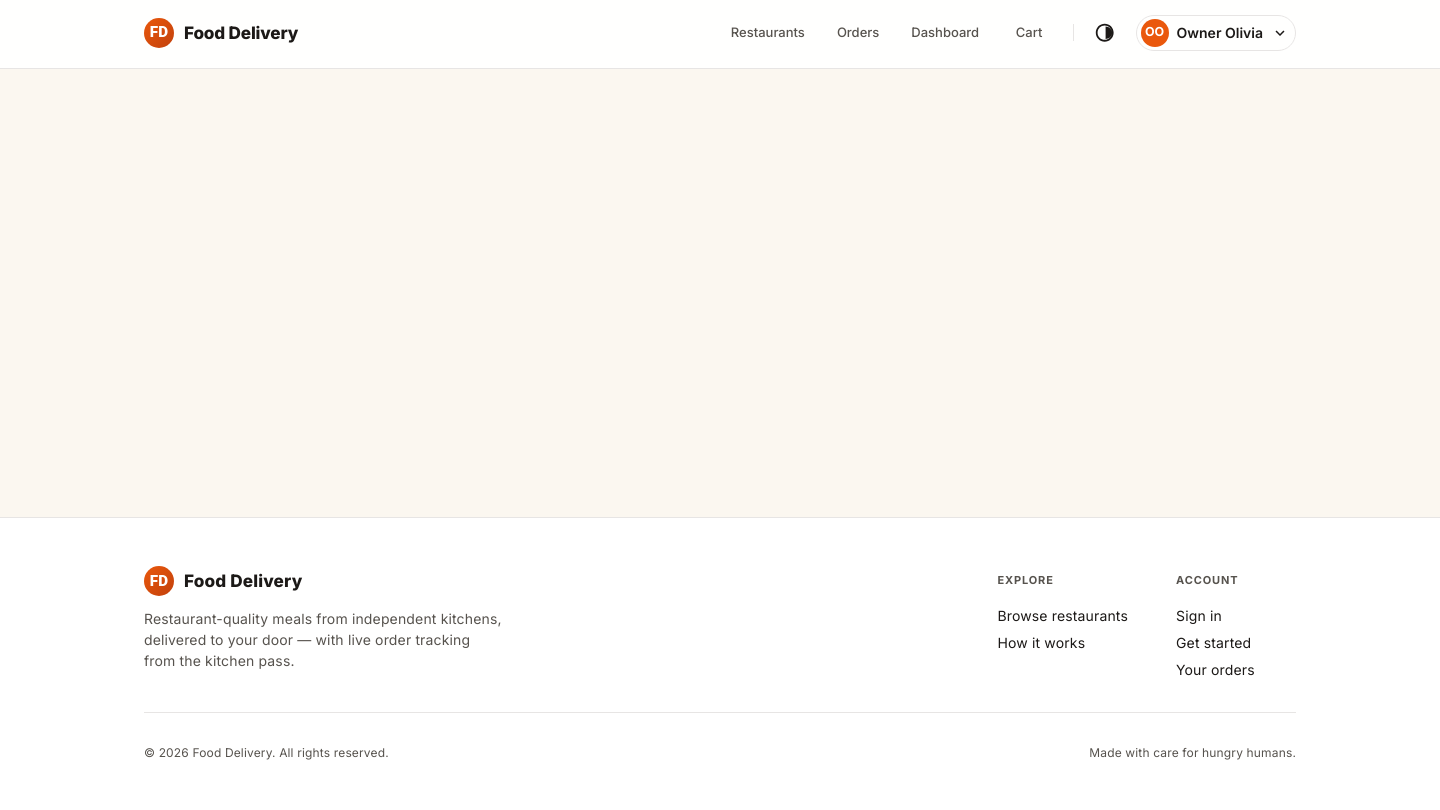
Test: App header › shows the cart link and labels the user as Owner when signed in as an owner
Expected: the link "Cart" is shown, [1016, 24, 1042, 40]
Expected: the link "Orders" is shown, [837, 24, 879, 40]
Step 1. Click the button with aria-label "account menu for owner olivia" → (1216,33), box [1136, 15, 1296, 51]
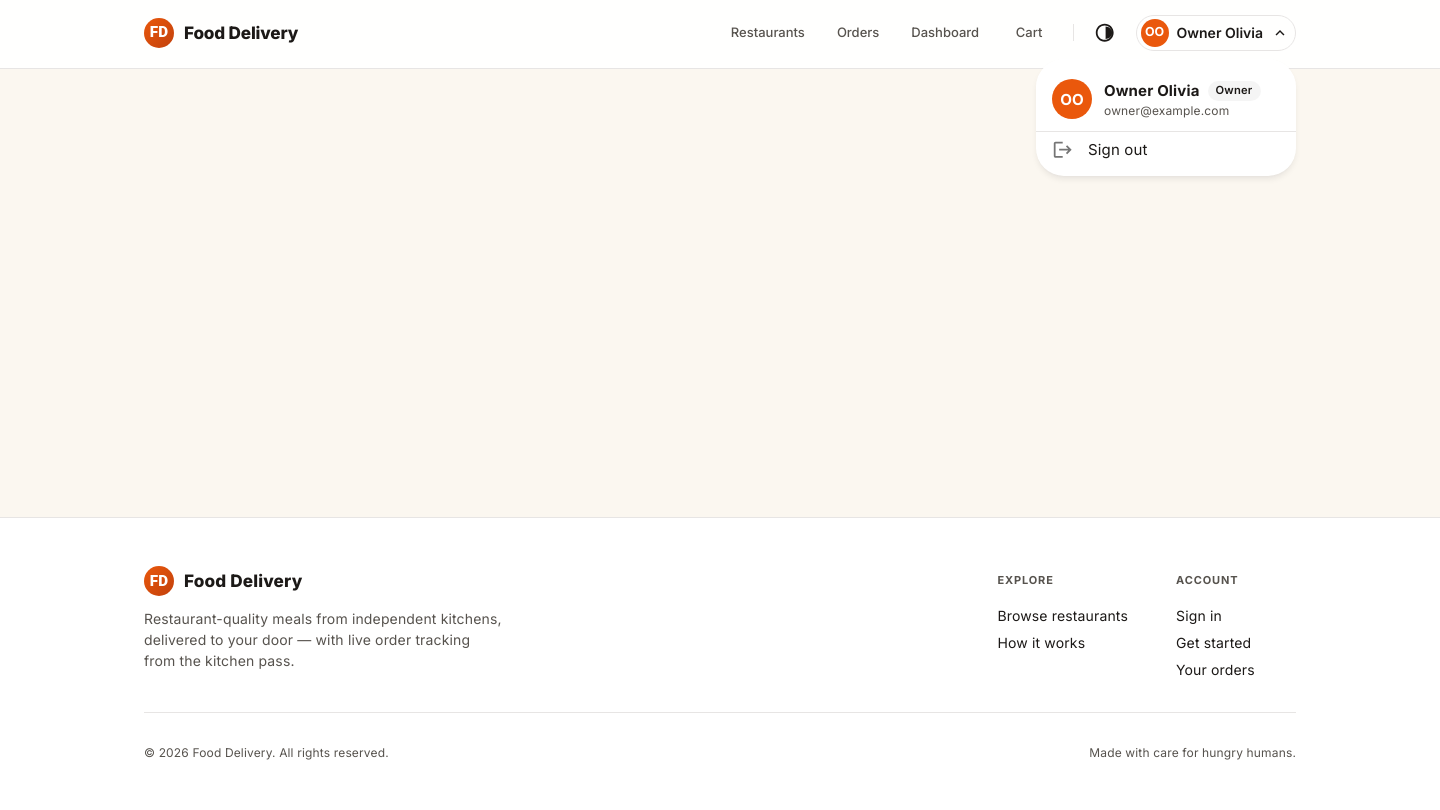
Result: the heading "Owner Olivia" is shown at [1104, 79, 1200, 102]
Result: the text "owner@example.com" is shown at [1104, 102, 1229, 118]
Result: the text "Owner" is shown at [1216, 83, 1252, 97]
